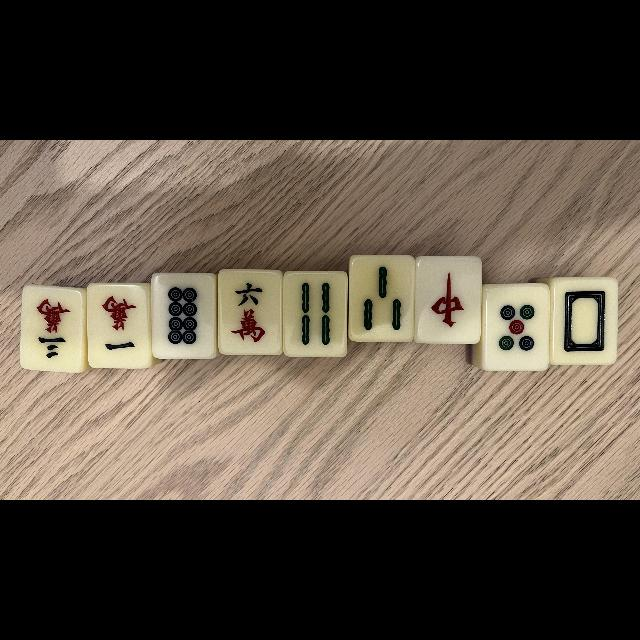b3: (352, 256, 412, 340)
b4: (284, 273, 346, 353)
b5: (485, 287, 547, 368)
c1: (85, 286, 148, 366)
c3: (24, 288, 82, 370)
c6: (222, 272, 280, 352)
d8: (153, 275, 215, 355)
dr: (418, 258, 478, 340)
dw: (552, 280, 616, 362)
